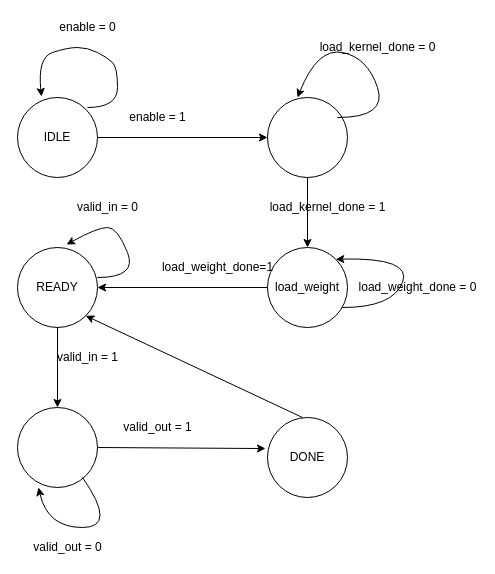
The diagram is 495 pixels wide and 574 high, and some of its shapes have lost their labels. Each missing label, with the box of its shape:
Load_kernel: (266, 96, 348, 178)
RUN: (16, 406, 98, 488)
